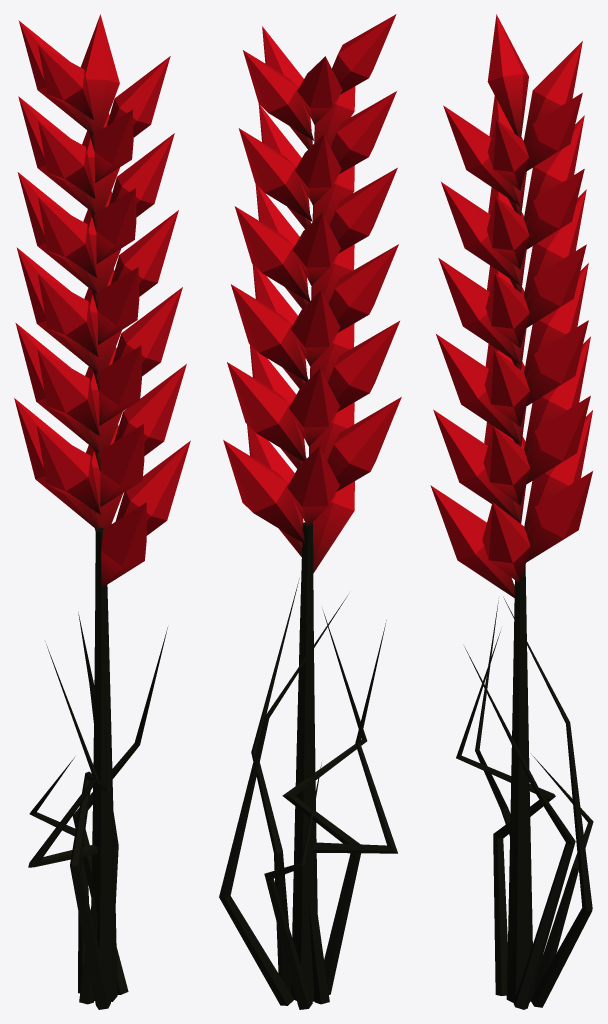
File: Plant-S-5.fbx
3 renders of one model, left to right at view 1: azimuth 30°, elevation 25°; view 2: azimuth 150°, elevation 25°; view 3: azimuth 270°, elevation 25°, orthographic. The views are drawn at different scales.
Visible parts, largest first — view 1: OUT-Plant; view 2: OUT-Plant; view 3: OUT-Plant.
Part boxes in pixels (<box>): OUT-Plant: <box>14,14,190,1009</box>; OUT-Plant: <box>219,14,401,1009</box>; OUT-Plant: <box>430,14,593,1009</box>.
Bounding box in the file's own units: 0.0495 × 0.2974 × 0.0463.
